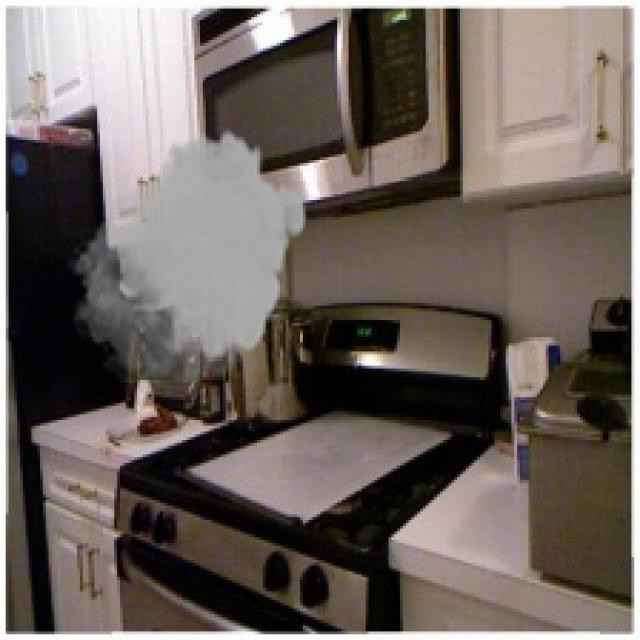Smoke: (65, 126, 308, 383)
